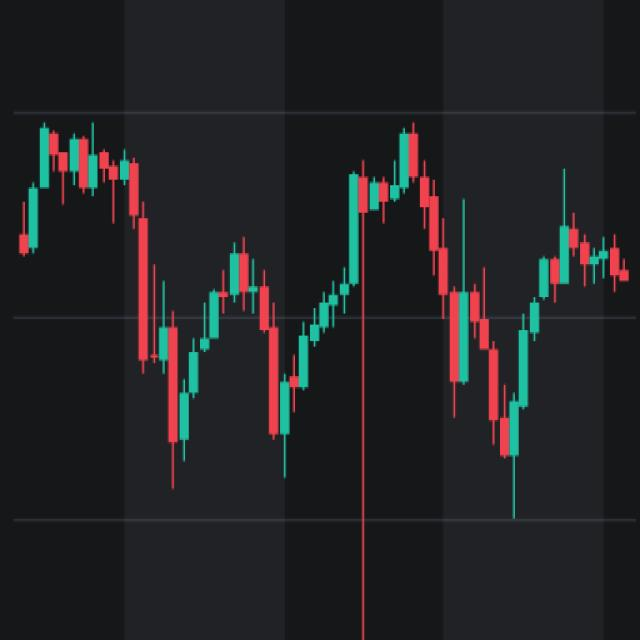Resistance-Emerging: (16, 112, 632, 466)
